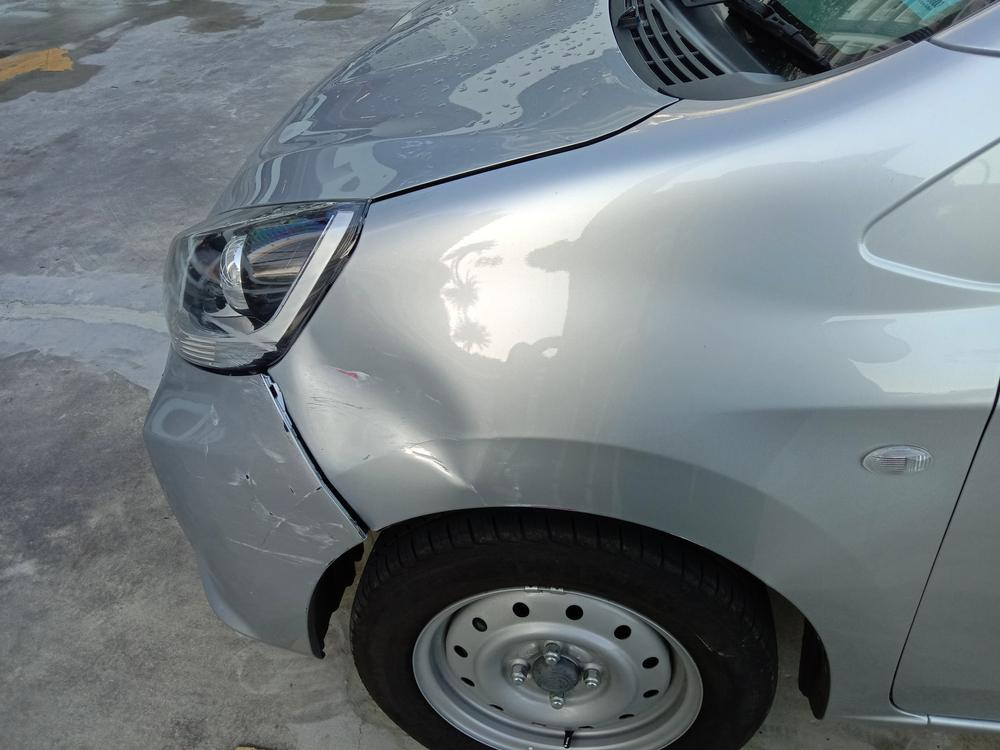dent: (293, 286, 482, 485)
scratch: (226, 385, 342, 567)
